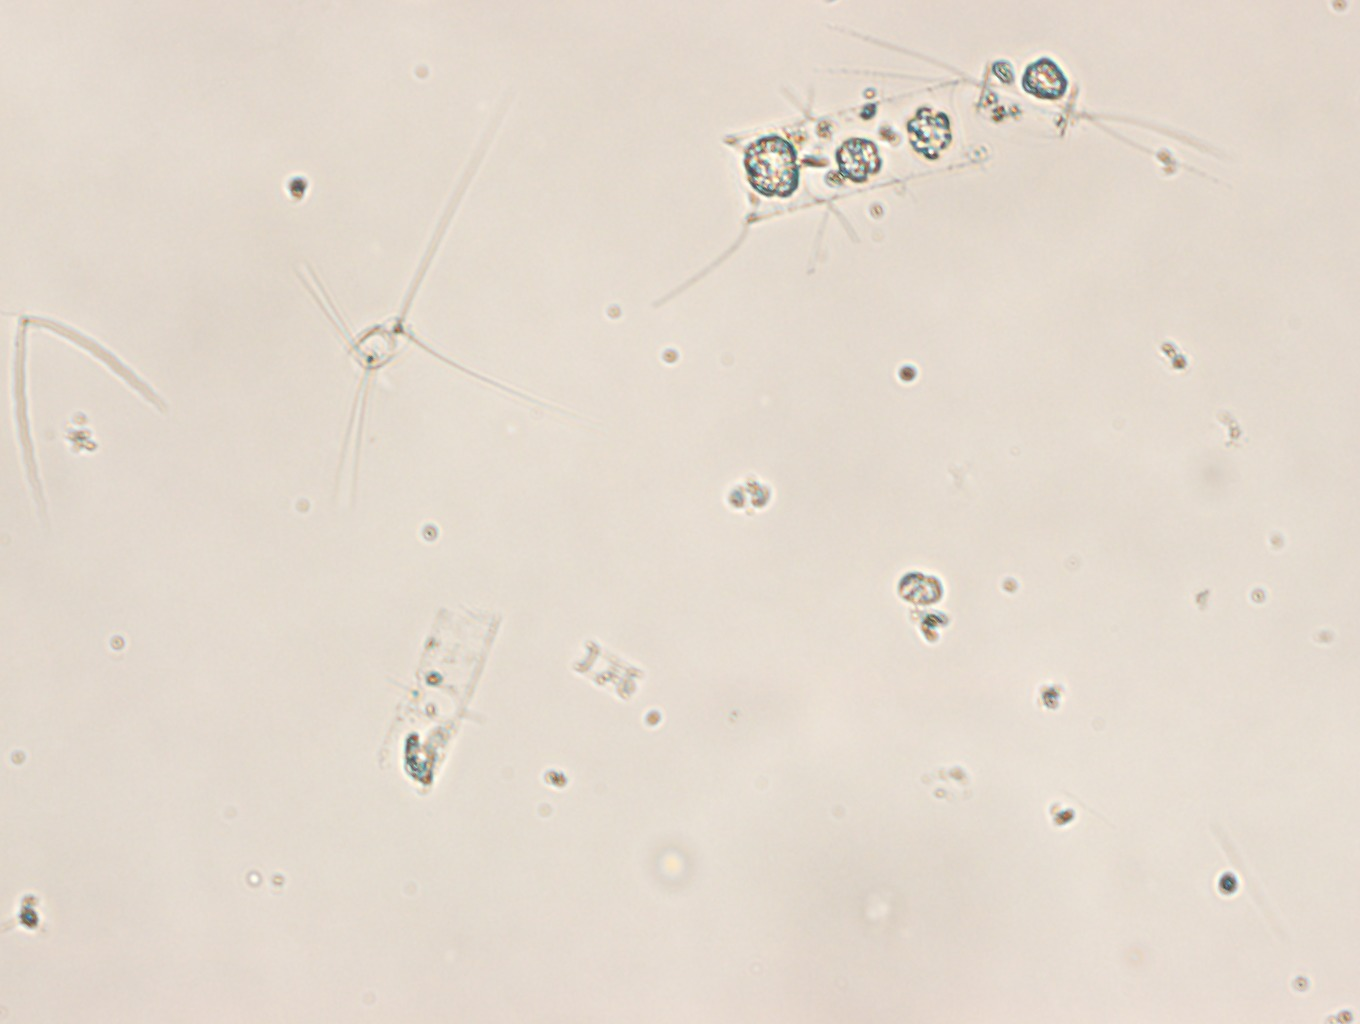chaetoceros: (297, 93, 563, 502), (660, 79, 976, 305), (826, 18, 1223, 177)
